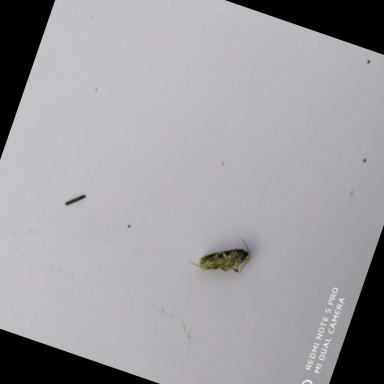pbw: (194, 234, 250, 288)
